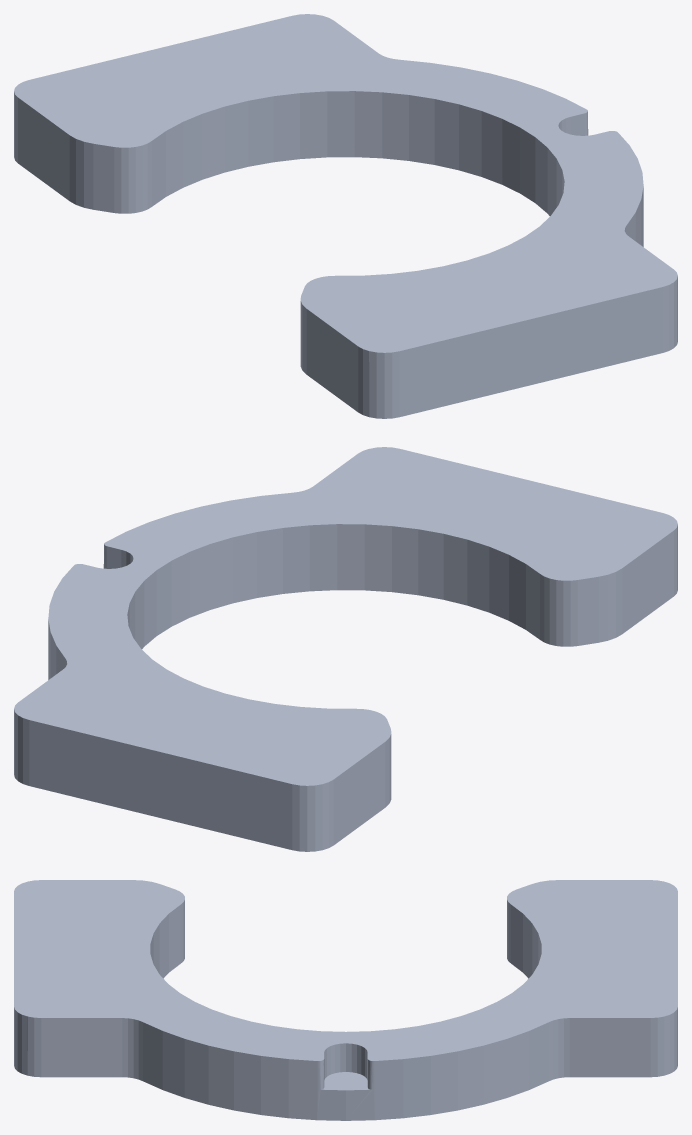
3 views of the same model, one above another, from view 1: azimuth 30°, elevation 25°; view 2: azimuth 150°, elevation 25°; view 3: azimuth 270°, elevation 25° (orthographic). The views are drawn at different scales.
Visible parts, largest first — view 1: base_link_01; view 2: base_link_01; view 3: base_link_01.
Boxes of the visible parts, x1,y1,x2,y2 form: base_link_01: [14, 14, 677, 418]; base_link_01: [14, 447, 677, 851]; base_link_01: [14, 880, 677, 1120].
Size of the model in its own units: 0.079 by 0.012 by 0.122.
